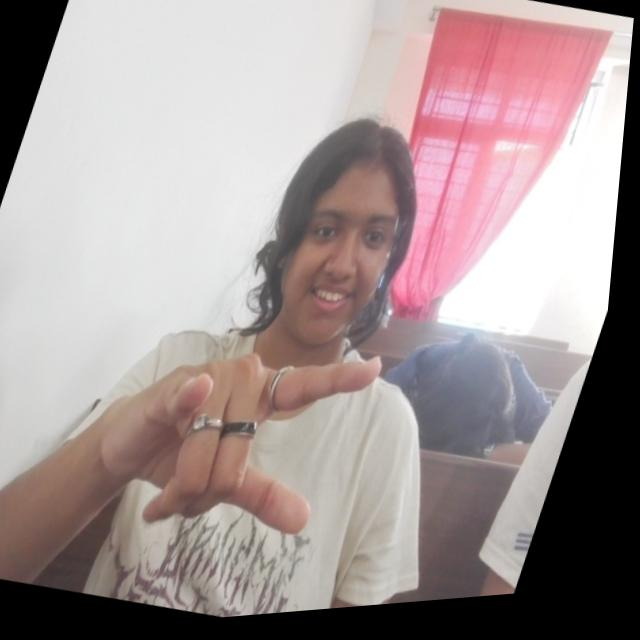iloveyou: (83, 302, 398, 573)
